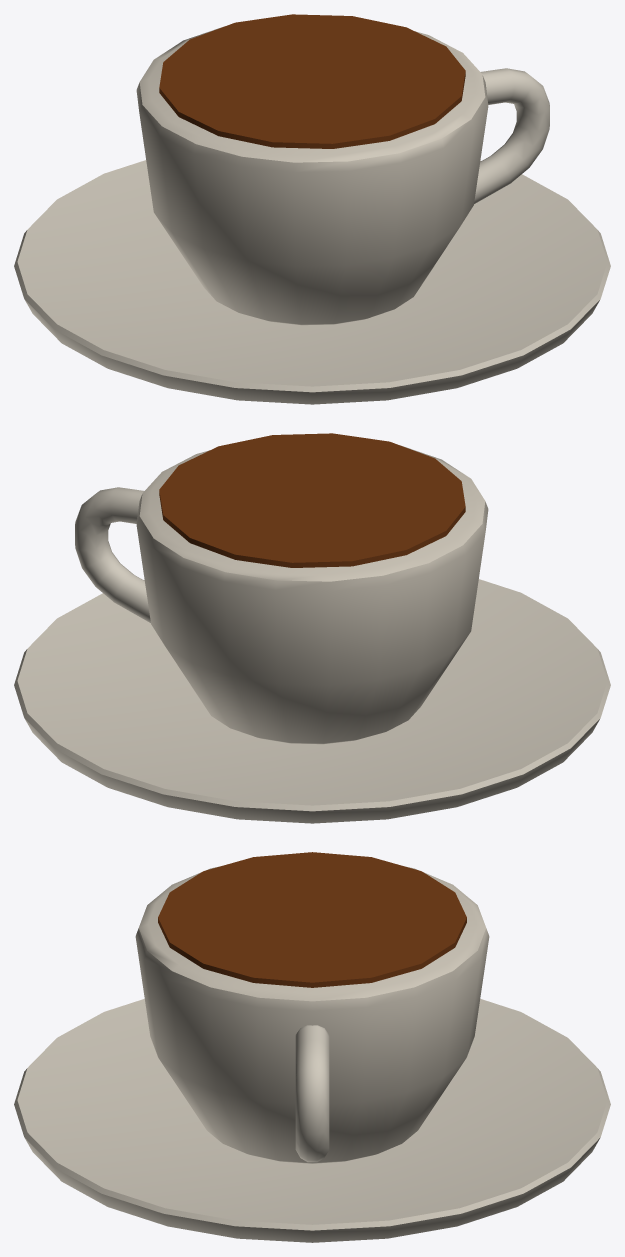
Rendered from tea_cup.glb.
3 views of the same model, one above another, from view 1: azimuth 30°, elevation 25°; view 2: azimuth 150°, elevation 25°; view 3: azimuth 270°, elevation 25° (orthographic).
Visible parts, largest first — view 1: Sammel Glatt; view 2: Sammel Glatt; view 3: Sammel Glatt.
Part boxes in pixels (x1=…): Sammel Glatt: x1=14, y1=14, x2=610, y2=404; Sammel Glatt: x1=14, y1=433, x2=610, y2=823; Sammel Glatt: x1=14, y1=852, x2=610, y2=1242.
Bounding box in the file's own units: 0.1546 × 0.074 × 0.1546.
